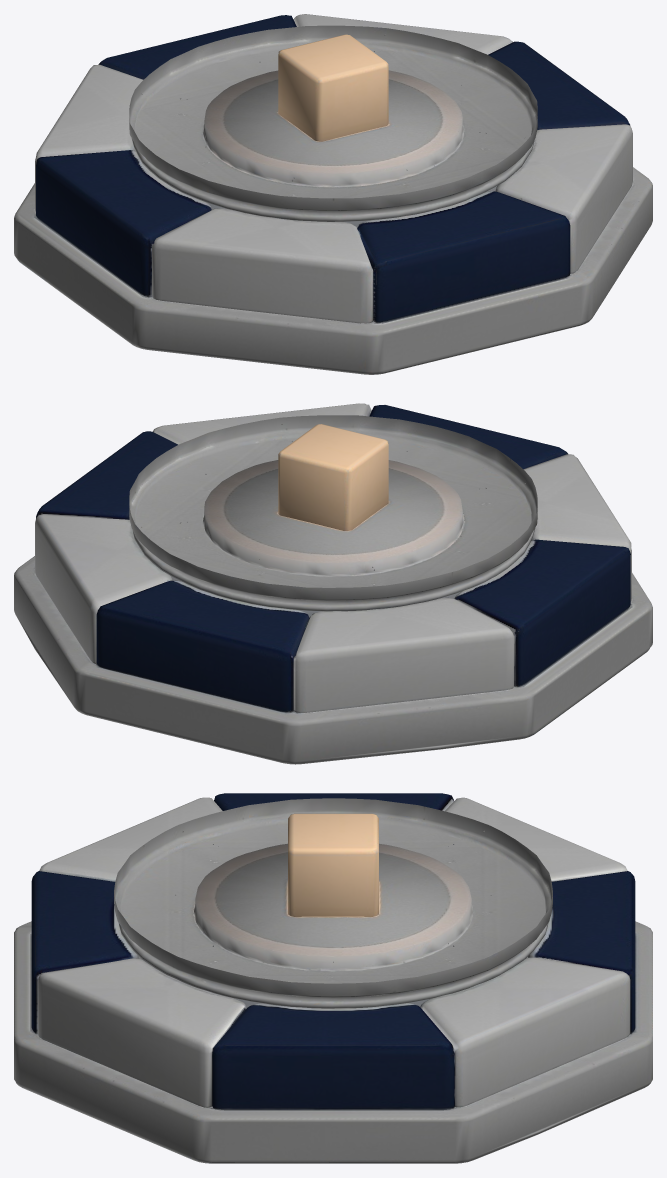
File: tripo_convert_40314d87-792c-416a-92c3-a6508253cf7a.fbx
3 renders of one model, top to bottom at view 1: azimuth 30°, elevation 25°; view 2: azimuth 150°, elevation 25°; view 3: azimuth 270°, elevation 25°, orthographic. The views are drawn at different scales.
Visible parts, largest first — view 1: tripo_node_40314d87; view 2: tripo_node_40314d87; view 3: tripo_node_40314d87.
Boxes of the visible parts, <box> form: tripo_node_40314d87: <box>14,14,652,374</box>; tripo_node_40314d87: <box>14,403,652,764</box>; tripo_node_40314d87: <box>14,793,652,1163</box>.
Bounding box in the file's own units: 0.998 × 0.3418 × 0.998.
Materials: 1 (1 with a texture image).
